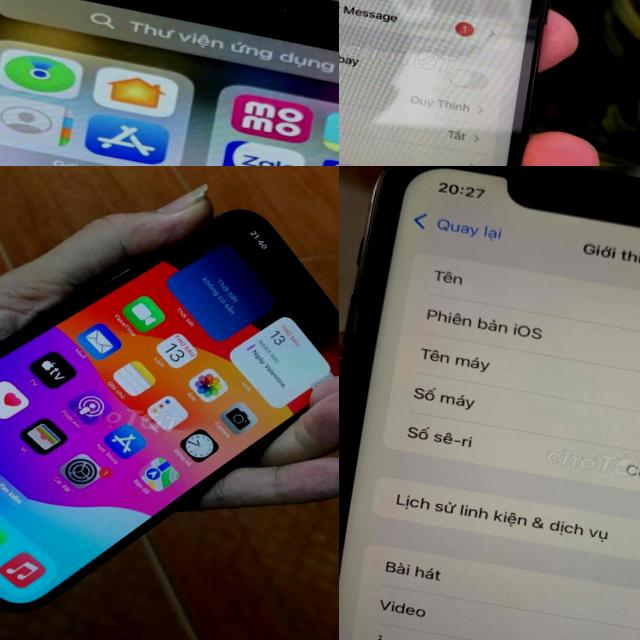gen_11: (339, 0, 607, 166)
gen_12_13: (0, 166, 339, 640)
gen_x_xs: (339, 166, 640, 640), (0, 0, 339, 166)
